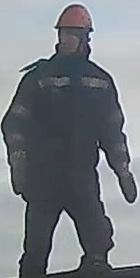gloves: (112, 165, 138, 206), (8, 157, 29, 196)
helmet: (54, 3, 95, 31)
vest: (4, 54, 106, 198)
